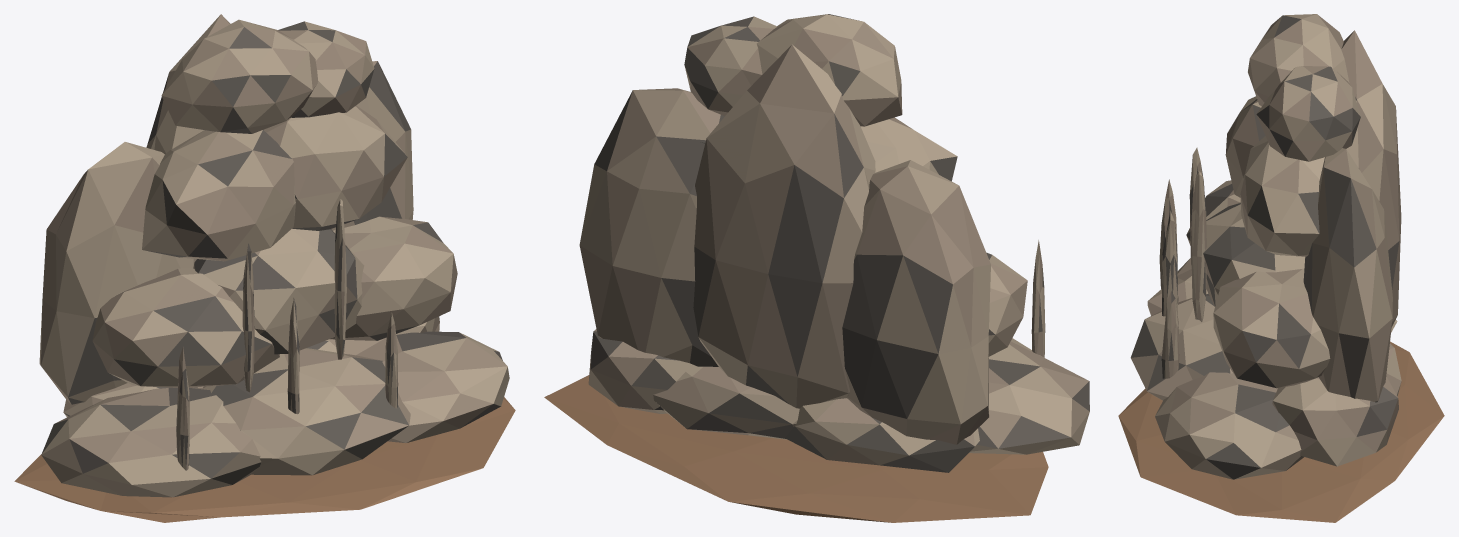
File: stratified_rock_cluster.glb
The picture shows the model from 3 angles, left to right: view 1: azimuth 30°, elevation 25°; view 2: azimuth 150°, elevation 25°; view 3: azimuth 270°, elevation 25°; orthographic projection. The views are drawn at different scales.
Parts seen in each view (by area): view 1: vertical strata 00, uneven soil foot, layered rock 00, layered rock 09, layered rock 01, layered rock 06, layered rock 11, layered rock 07, layered rock 10, layered rock 08, layered rock 02, layered rock 12 (+9 smaller); view 2: vertical strata 01, vertical strata 00, uneven soil foot, vertical strata 02, layered rock 00, layered rock 11, layered rock 03, layered rock 04, layered rock 12, layered rock 05, layered rock 09, layered rock 06 (+1 smaller); view 3: uneven soil foot, vertical strata 02, layered rock 02, layered rock 08, layered rock 10, layered rock 12, layered rock 05, vertical strata 01, layered rock 01, layered rock 11, layered rock 07, layered rock 09 (+8 smaller).
Boxes of the visible parts, <box> form: vertical strata 00: <box>39,142,196,404</box>; uneven soil foot: <box>14,397,515,522</box>; layered rock 00: <box>41,387,261,497</box>; layered rock 09: <box>142,130,295,261</box>; layered rock 01: <box>203,348,410,475</box>; layered rock 06: <box>92,268,279,387</box>; layered rock 11: <box>161,19,318,133</box>; layered rock 07: <box>193,228,364,354</box>; layered rock 10: <box>263,105,407,230</box>; layered rock 08: <box>330,216,457,340</box>; layered rock 02: <box>356,331,509,442</box>; layered rock 12: <box>278,21,374,117</box>; vertical strata 01: <box>693,44,875,408</box>; vertical strata 00: <box>842,160,990,444</box>; uneven soil foot: <box>544,375,1048,522</box>; vertical strata 02: <box>579,88,720,366</box>; layered rock 00: <box>969,338,1089,454</box>; layered rock 11: <box>756,14,902,126</box>; layered rock 03: <box>785,398,979,472</box>; layered rock 04: <box>653,366,799,439</box>; layered rock 12: <box>684,16,777,115</box>; layered rock 05: <box>588,329,697,413</box>; layered rock 09: <box>860,117,957,181</box>; layered rock 06: <box>986,252,1027,356</box>; uneven soil foot: <box>1118,341,1444,522</box>; vertical strata 02: <box>1303,148,1392,402</box>; layered rock 02: <box>1155,372,1303,479</box>; layered rock 08: <box>1213,268,1330,388</box>; layered rock 10: <box>1240,136,1324,256</box>; layered rock 12: <box>1256,66,1360,161</box>; layered rock 05: <box>1272,377,1398,466</box>; vertical strata 01: <box>1341,30,1401,326</box>; layered rock 01: <box>1130,293,1232,400</box>; layered rock 11: <box>1248,14,1349,106</box>; layered rock 07: <box>1203,202,1305,306</box>; layered rock 09: <box>1225,96,1265,197</box>.
Bounding box in the file's own units: 9.11 × 7.83 × 5.84.
